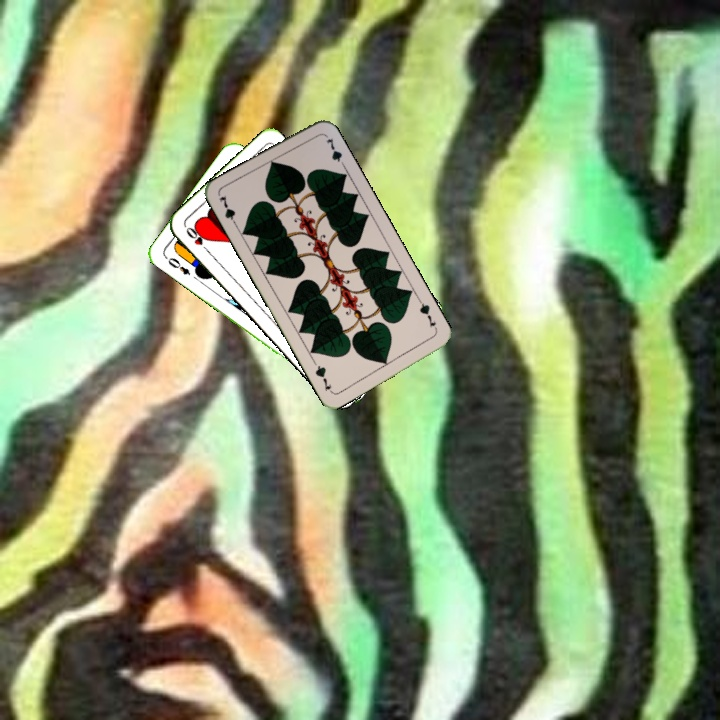EO: (161, 253, 193, 278)
G7: (215, 191, 241, 230), (415, 296, 440, 334)
HO: (182, 223, 213, 256)
